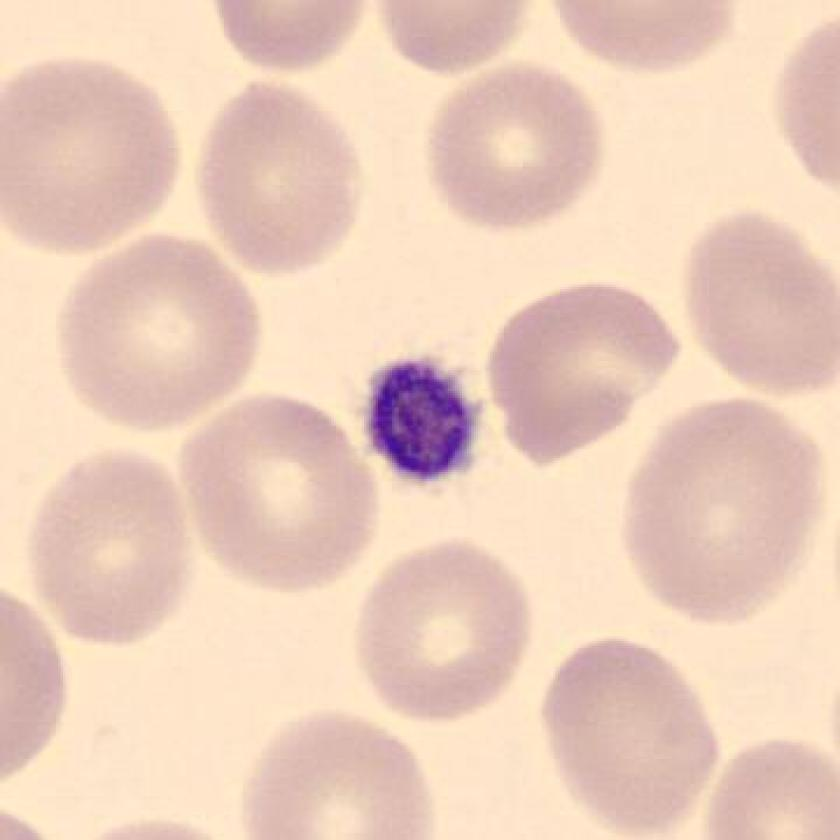platelets: (351, 358, 493, 499)
